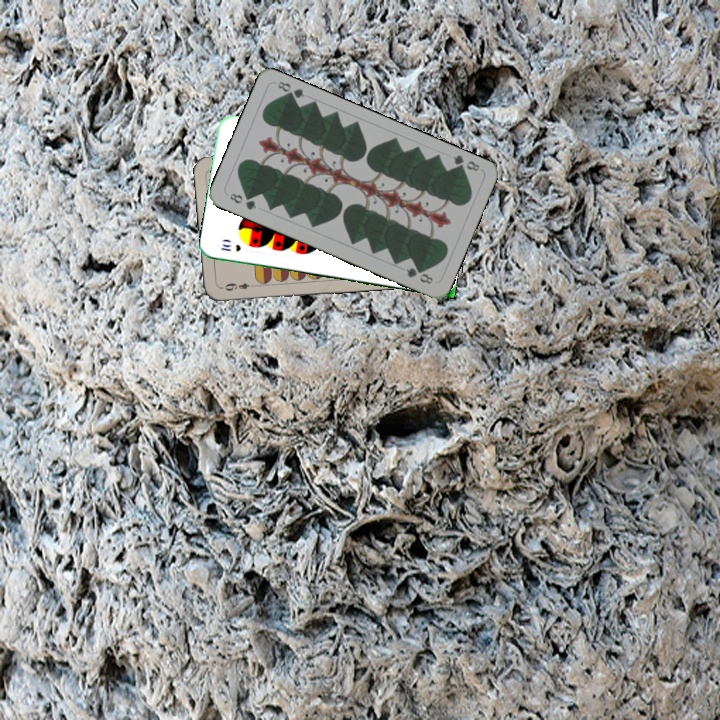E9: (221, 279, 258, 293)
G8: (225, 189, 259, 213), (449, 151, 482, 175)
S10: (217, 240, 244, 254)
